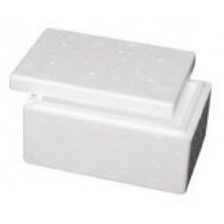foam_box: (5, 22, 216, 198)
